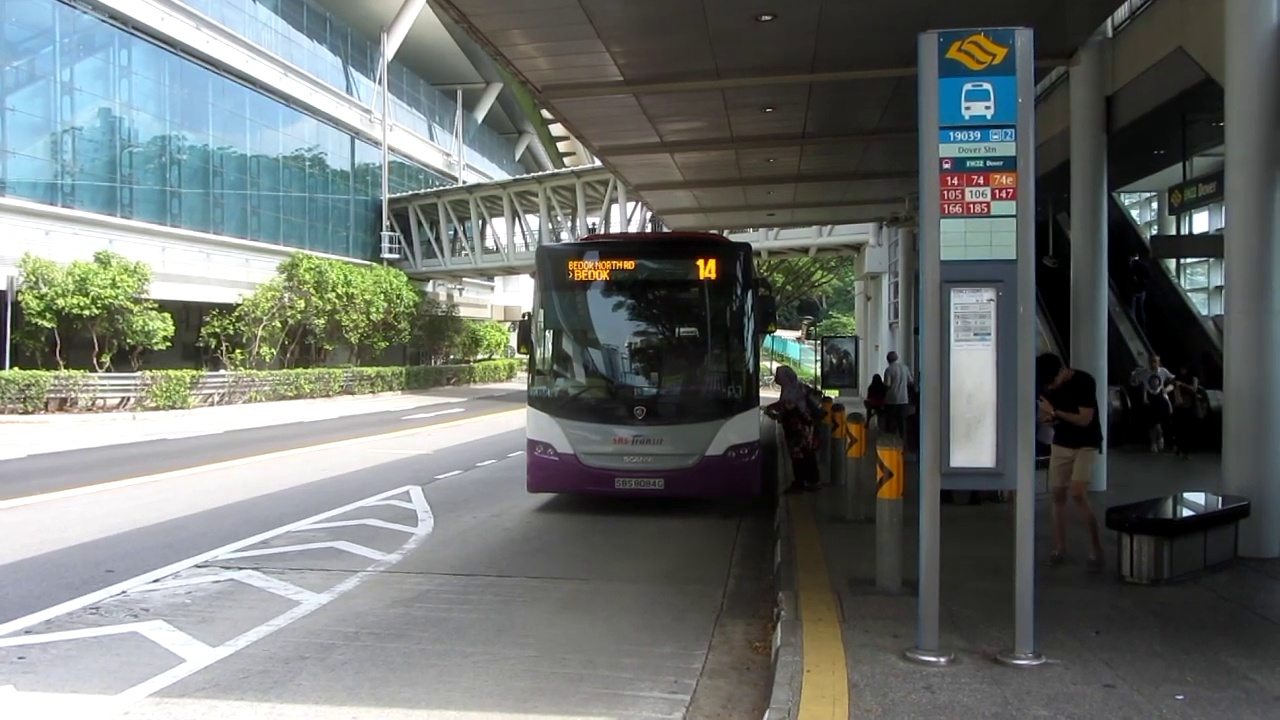bus panel: (563, 256, 722, 283)
